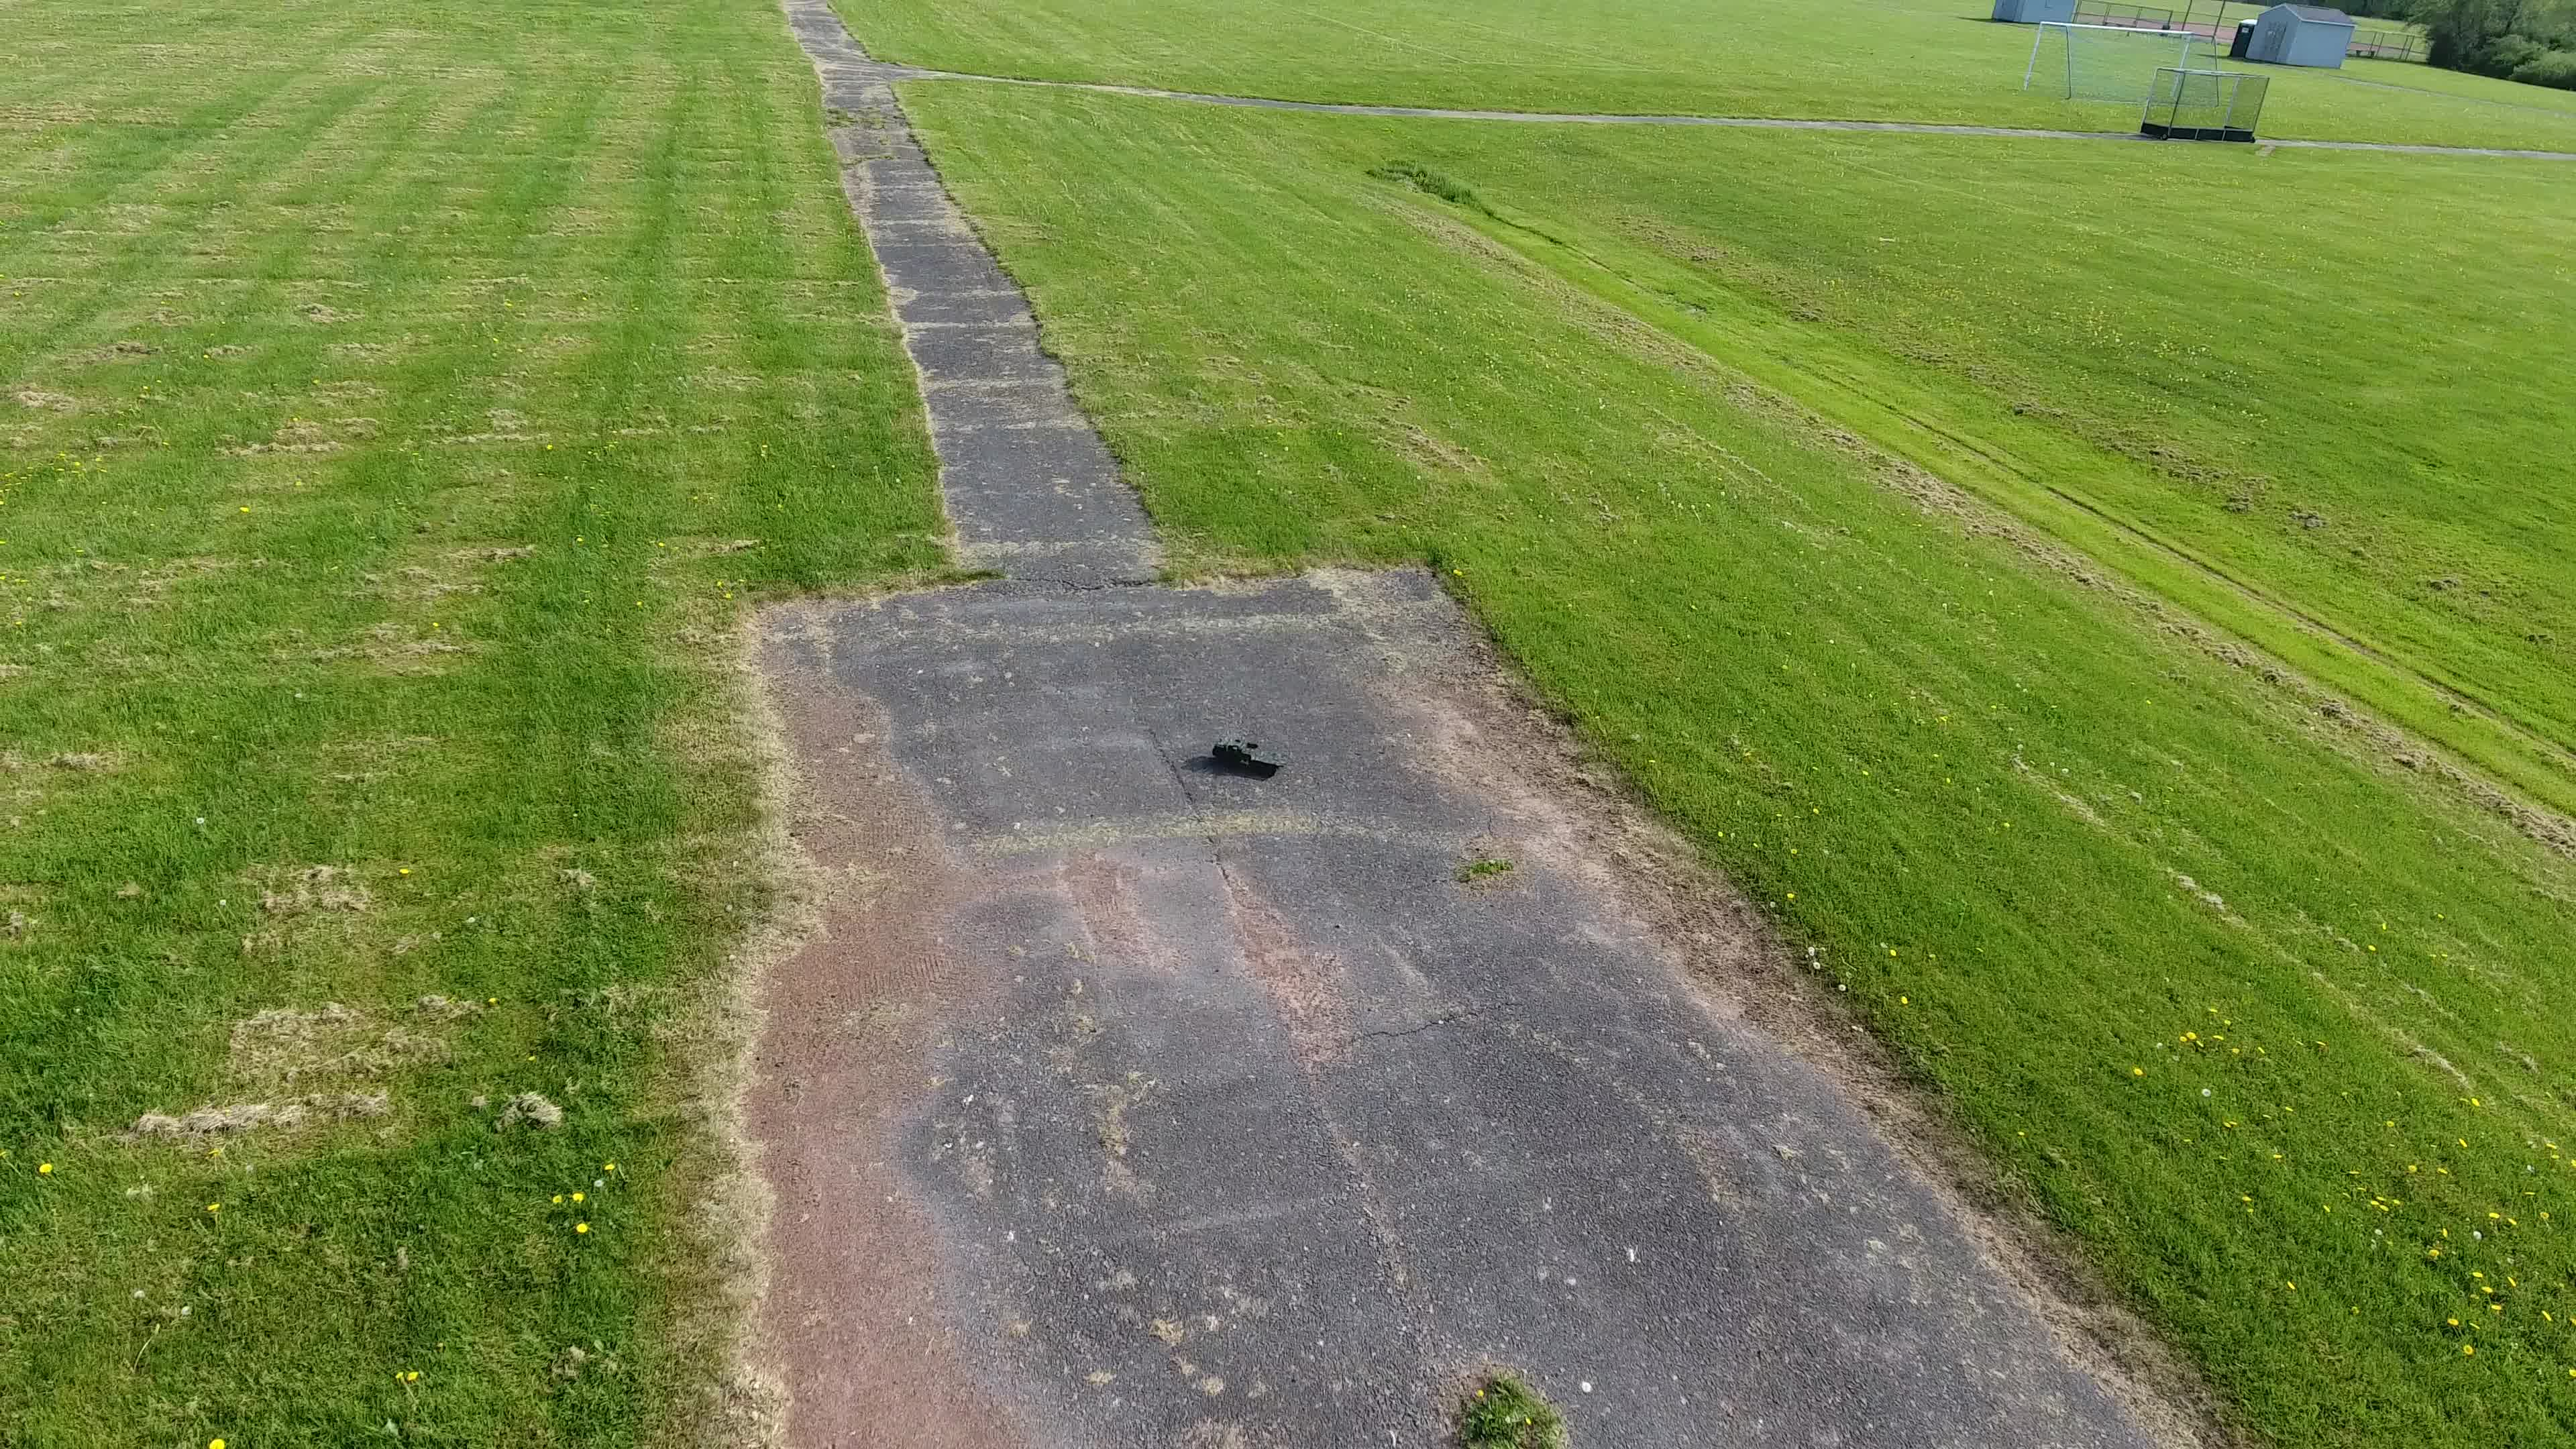transporter9: (1210, 736, 1288, 777)
